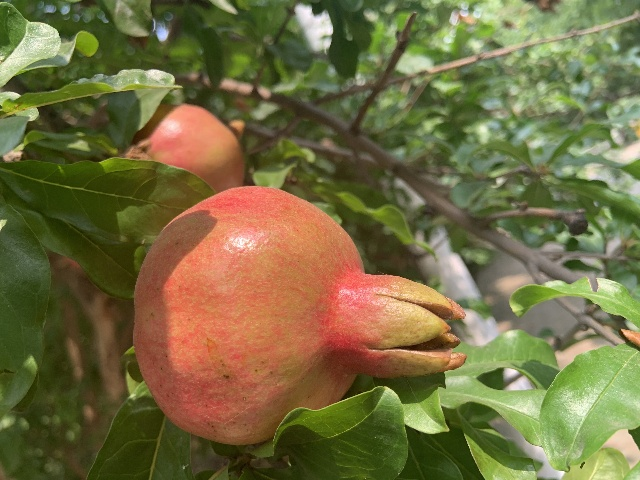ripe: (132, 184, 466, 445), (131, 103, 244, 193)
